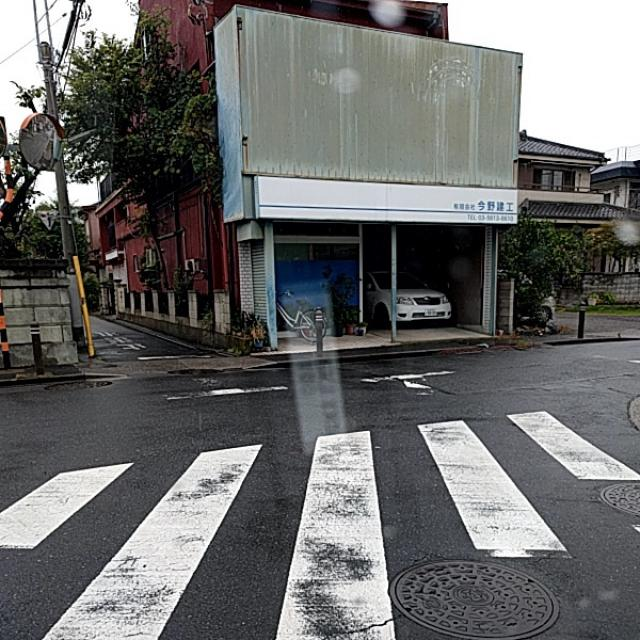pothole: (330, 610, 408, 639)
